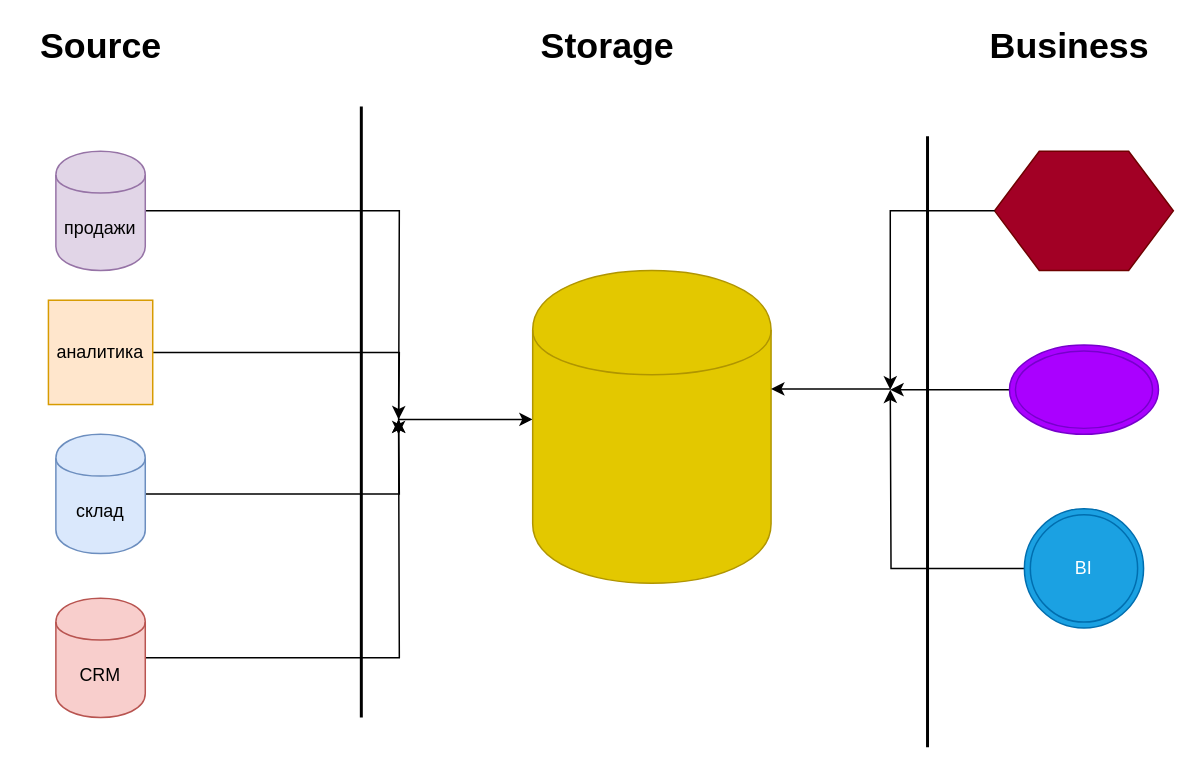
The diagram is 1199 pixels wide and 775 high, and some of its shapes have lost their labels. Here are the shapes that lost their labels. From the top down, the box of each, then its label:
(993, 150, 1173, 270): SQL
(1008, 343, 1158, 434): Exel
(531, 269, 771, 583): Хранилище данных
